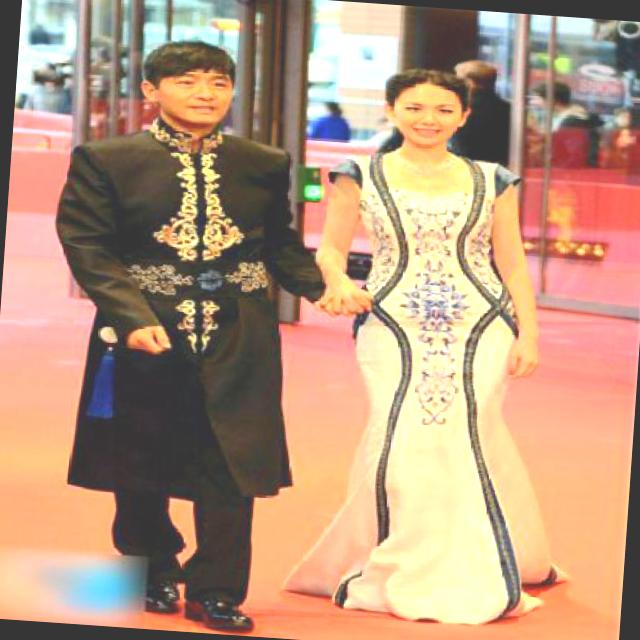Person: (19, 16, 348, 639), (299, 58, 578, 639)
